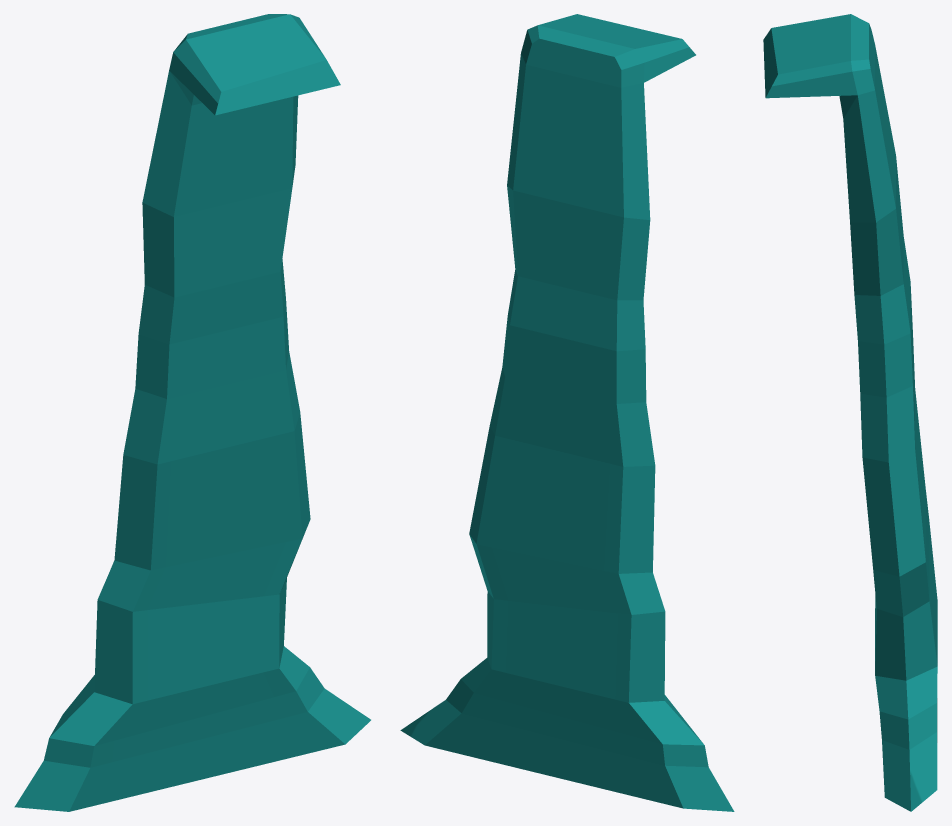
The model's file is CascadaAnimada_000014.obj.
3 renders of one model, left to right at view 1: azimuth 30°, elevation 25°; view 2: azimuth 150°, elevation 25°; view 3: azimuth 270°, elevation 25°, orthographic. The views are drawn at different scales.
Visible parts, largest first — view 1: Cube.053, Cube.054; view 2: Cube.053, Cube.054; view 3: Cube.053, Cube.054.
Part boxes in pixels (x1=…): Cube.053: x1=14, y1=14, x2=370, y2=811; Cube.054: x1=169, y1=14, x2=340, y2=115; Cube.053: x1=400, y1=25, x2=734, y2=811; Cube.054: x1=538, y1=14, x2=695, y2=82; Cube.053: x1=839, y1=14, x2=937, y2=811; Cube.054: x1=763, y1=14, x2=857, y2=98.
Bounding box in the file's own units: 136 × 277 × 62.26.
